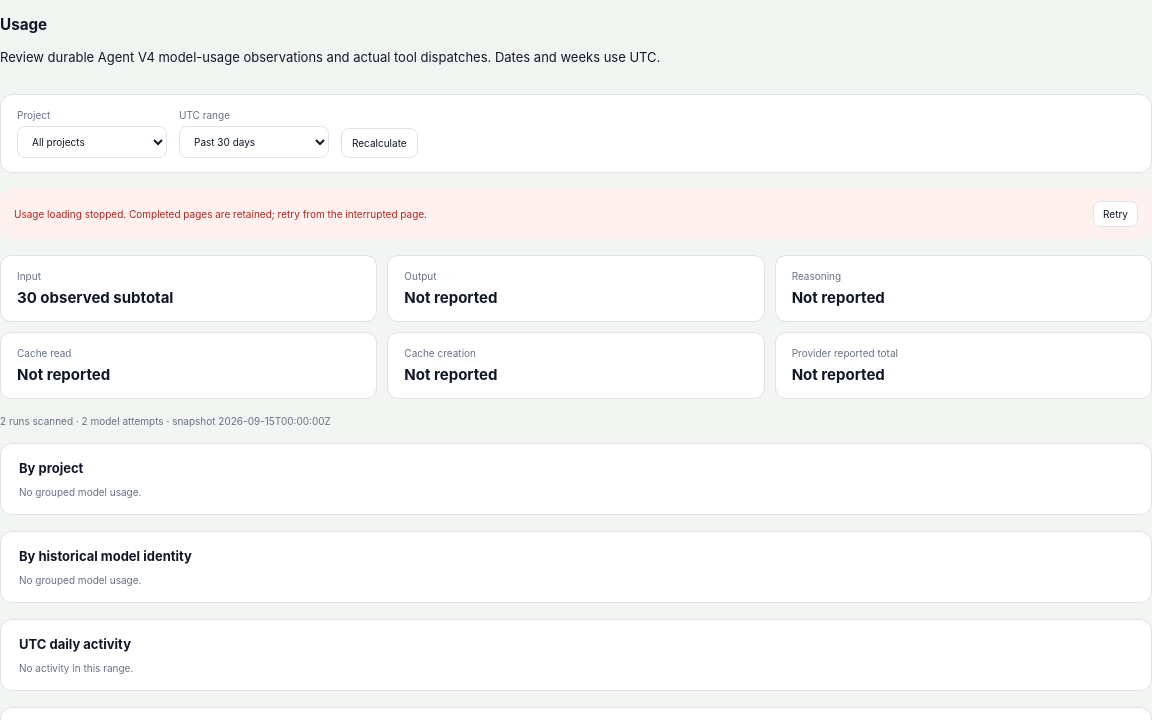
Test: UsageSettings › retains completed pages on a transient error and restarts safely after a repeated cursor
Expected: the message shows "Completed pages are retained", [14,208,427,220]
Expected: the text "30 observed subtotal" is shown, [17,288,173,307]
Click the button "Retry".
click(1116, 214)  # box [1093,201,1138,227]
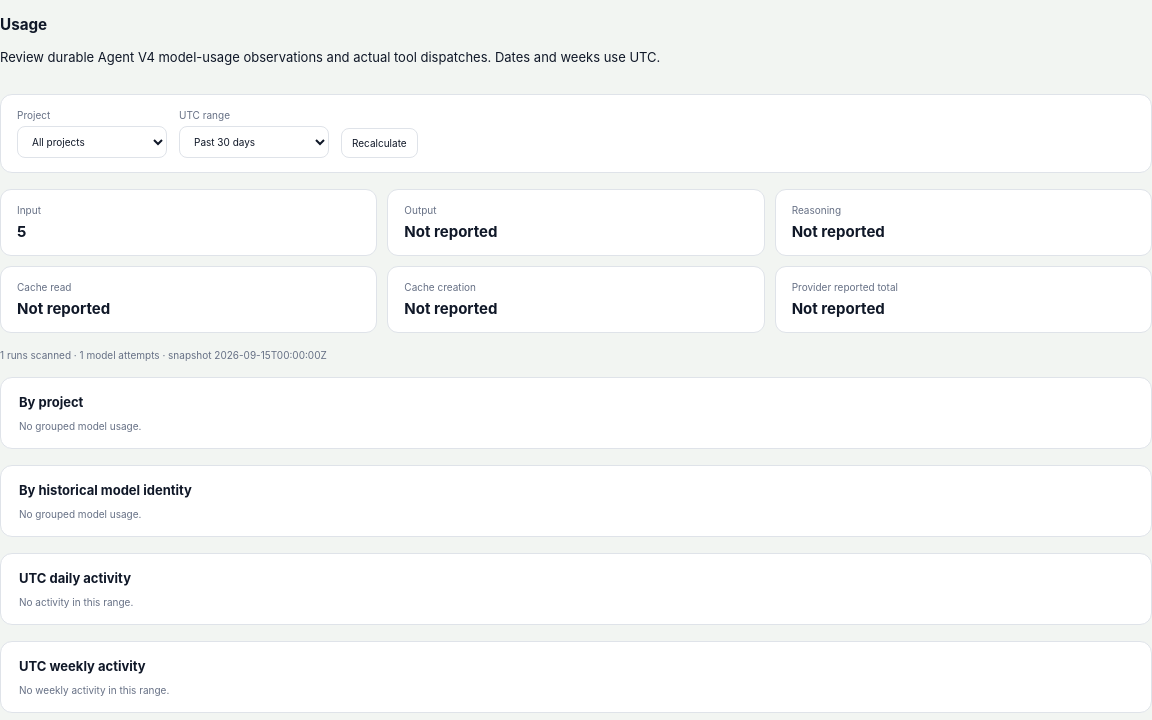
Expected: the text "5" is shown, [17,222,26,241]
